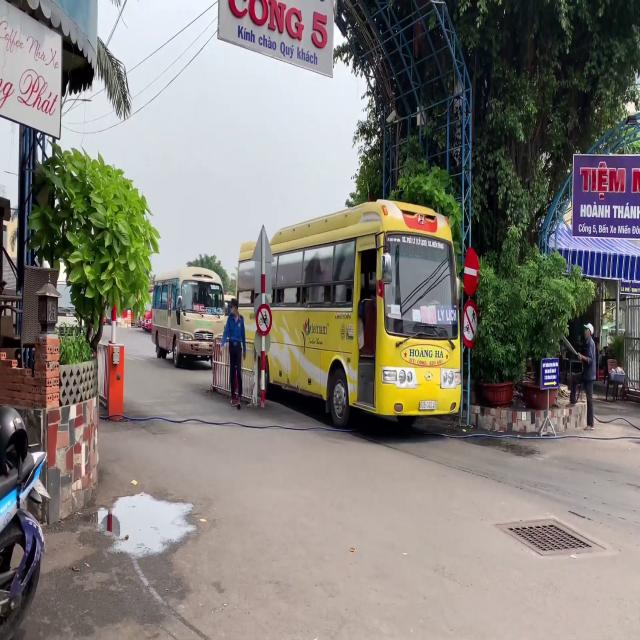bien_trang: (420, 400, 438, 410)
